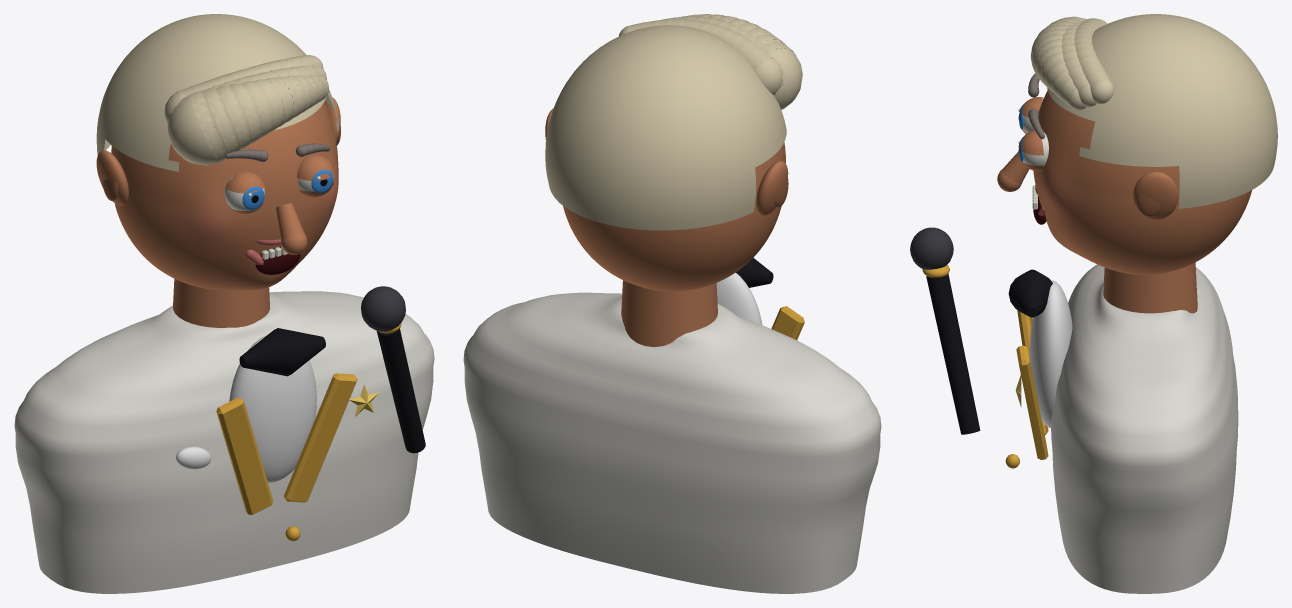
The model's file is magnate_host.fbx.
The picture shows the model from 3 angles, left to right: view 1: azimuth 30°, elevation 25°; view 2: azimuth 150°, elevation 25°; view 3: azimuth 270°, elevation 25°; orthographic projection. The views are drawn at different scales.
Parts seen in each view (by area): view 1: magnate_host, magnate_host__head; view 2: magnate_host, magnate_host__head; view 3: magnate_host, magnate_host__head.
Part boxes in pixels (<box>): magnate_host: <box>14,279,434,593</box>; magnate_host__head: <box>96,14,340,290</box>; magnate_host: <box>463,258,881,593</box>; magnate_host__head: <box>545,14,802,291</box>; magnate_host: <box>910,227,1238,593</box>; magnate_host__head: <box>997,14,1277,274</box>.
Bounding box in the file's own units: 1.58 × 1.92 × 1.31.
